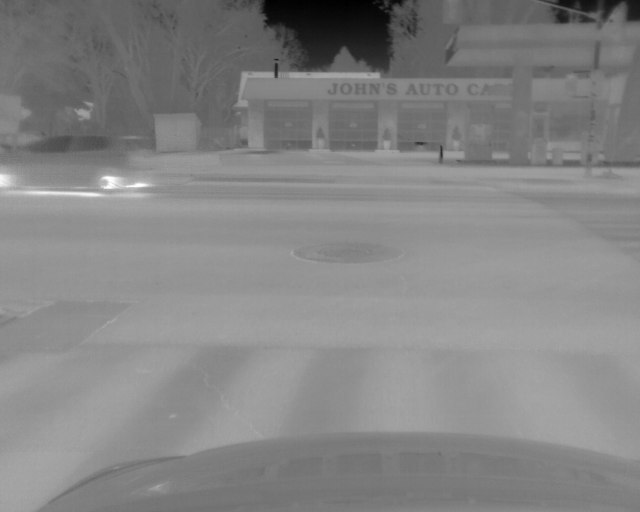car: (1, 133, 146, 193)
